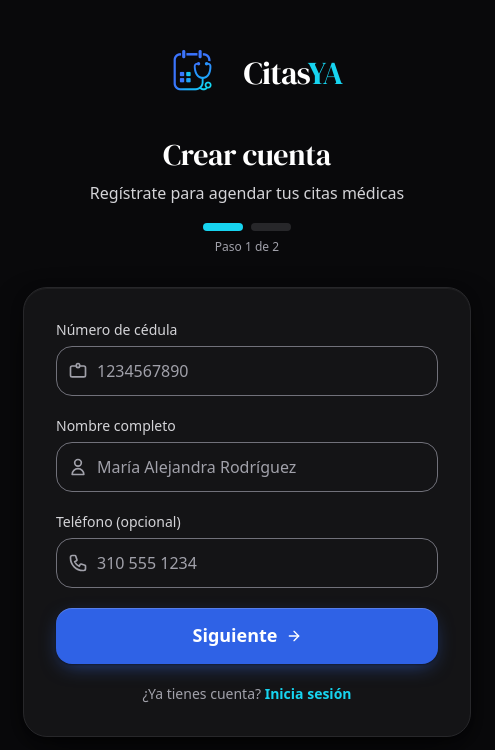
Test: RegisterPage: mensaje después del registro (H-51) › con la sesión ya iniciada, invita a agendar y no pide revisar un correo que no llegará
The image size is (495, 750).
Type "52123456" into the field labelled "Número de cédula" at (247,371), box [56, 346, 438, 396]
Type "Rosa Prueba Sintética" into the field labelled "Nombre completo" at (247,467), box [56, 442, 438, 492]
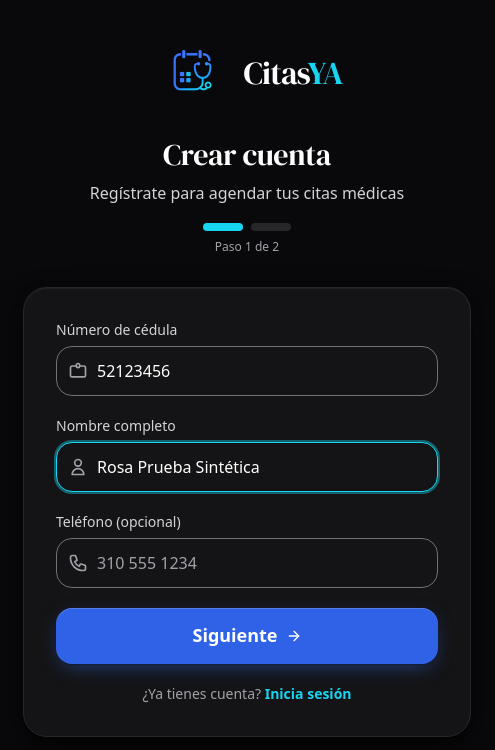
Click the button "Siguiente" at (247,636), box [56, 608, 438, 664]
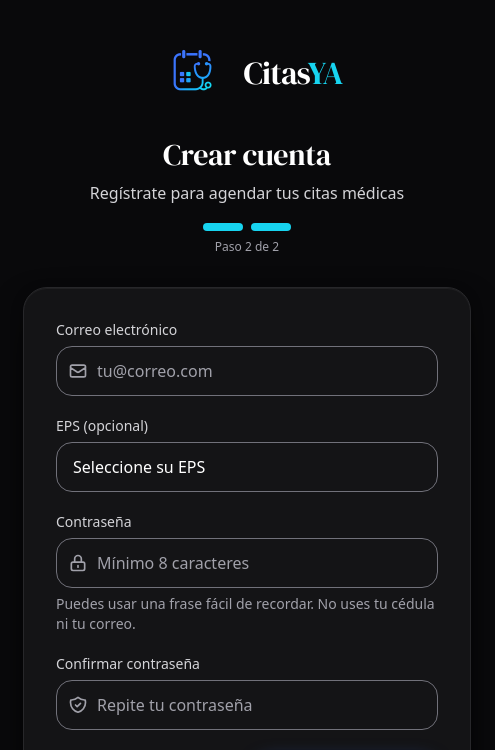
Type "usuaria.prueba@ejemplo.test" into the field labelled "Correo electrónico" at (247,371), box [56, 346, 438, 396]
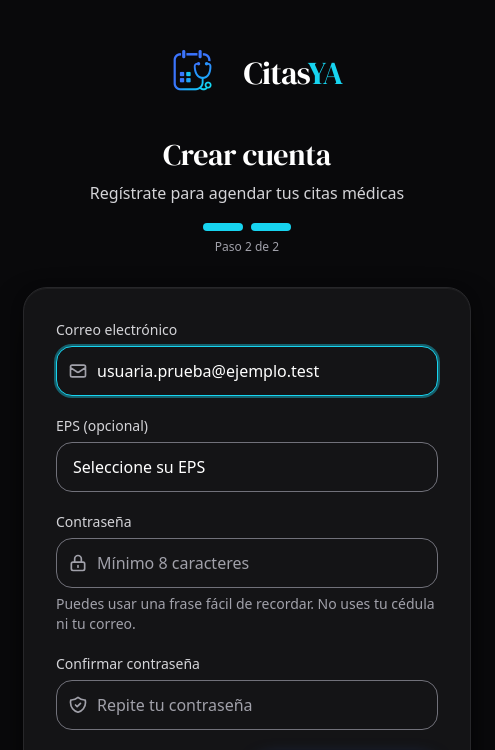
Type "mi jardín tiene tres rosas" into the password field labelled "Contraseña" at (247,563), box [56, 538, 438, 588]
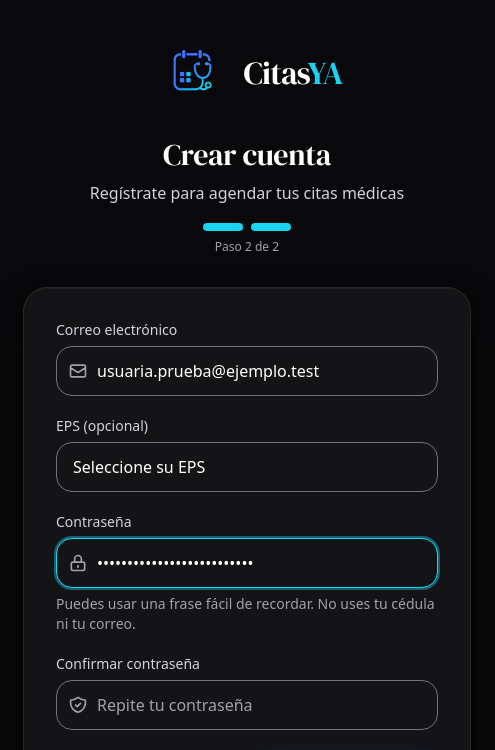
Type "mi jardín tiene tres rosas" into the password field labelled "Confirmar contraseña" at (247,705), box [56, 680, 438, 730]
(page scrolled)
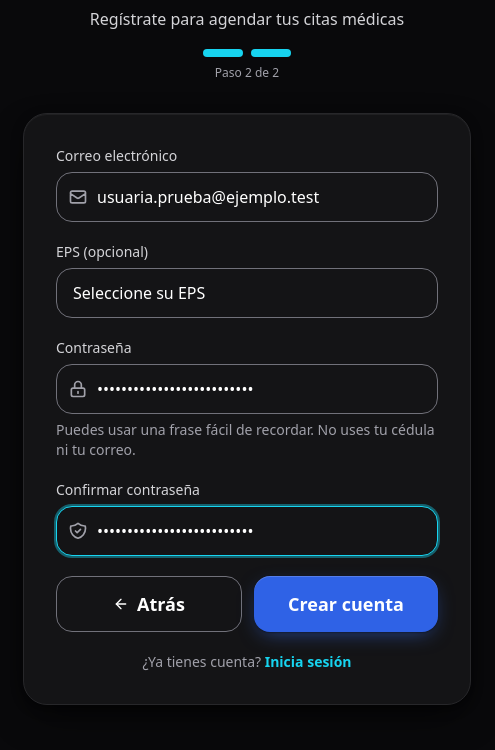
Click the button "Crear cuenta" at (346,604), box [254, 576, 438, 632]
(page scrolled)
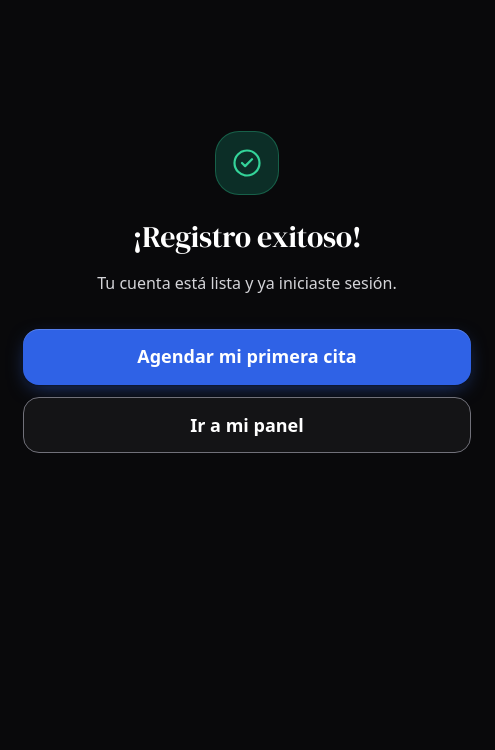
Check: the heading "¡Registro exitoso!" is shown, box [133, 216, 361, 257]
